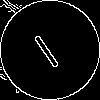I: (25, 25, 62, 70)
